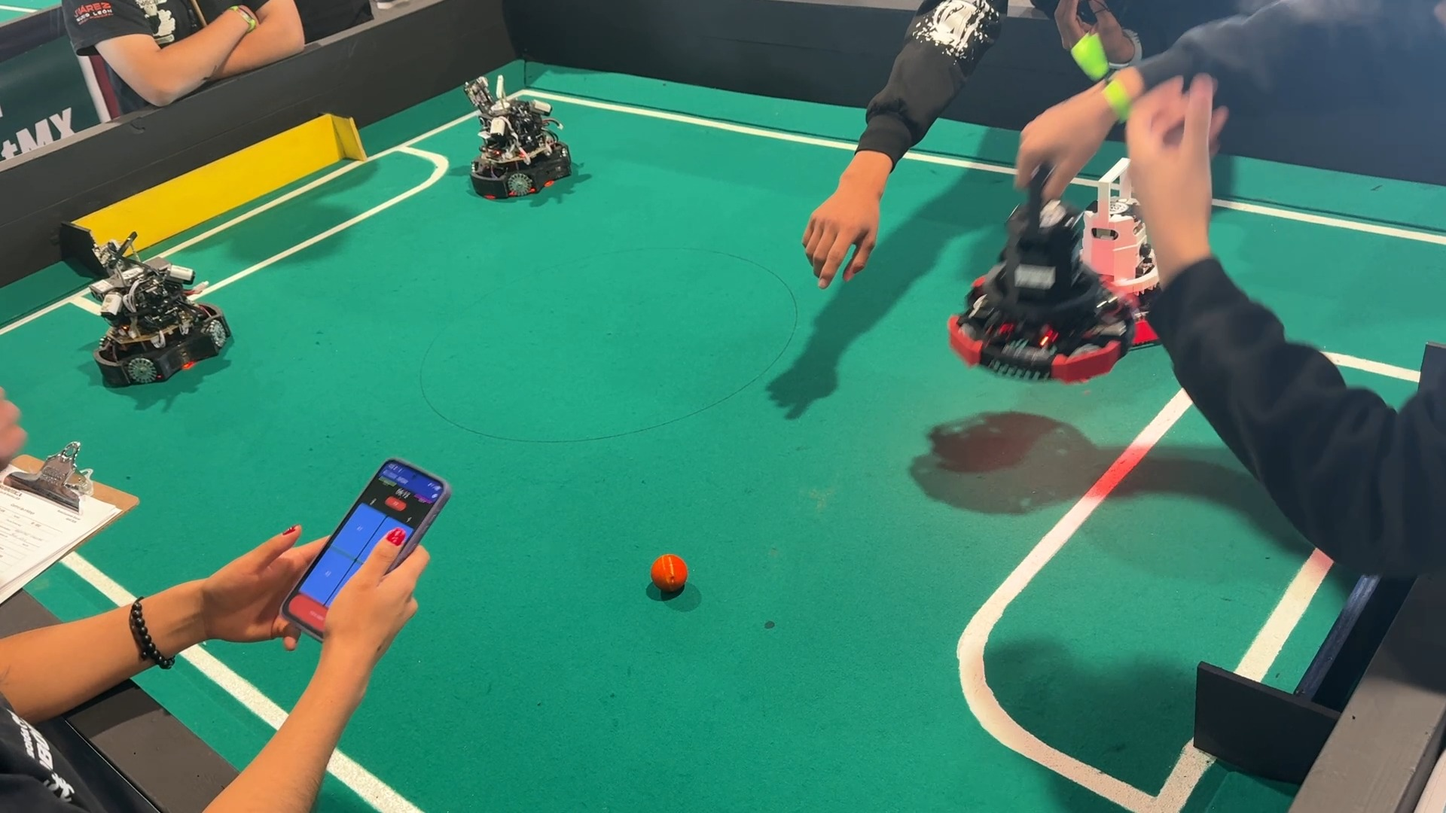Robot: (955, 149, 1111, 370), (68, 230, 244, 408), (435, 52, 600, 221), (1074, 151, 1169, 350)
pelota: (645, 553, 689, 604)
